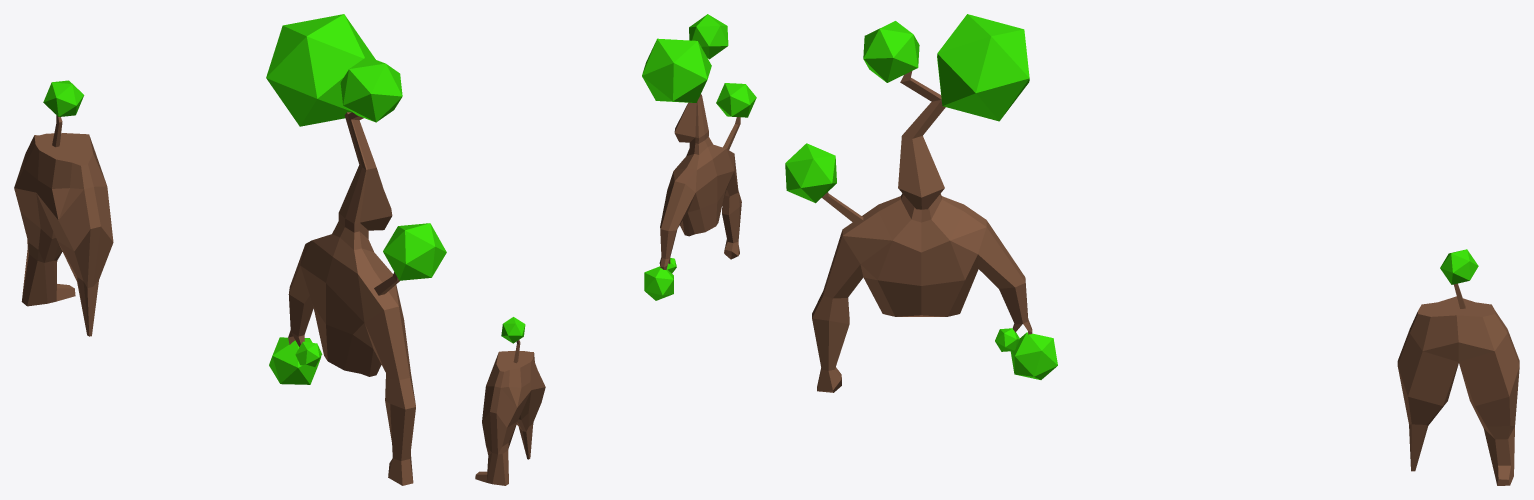
Rendered from grootshalf.fbx.
The picture shows the model from 3 angles, left to right: view 1: azimuth 30°, elevation 25°; view 2: azimuth 150°, elevation 25°; view 3: azimuth 270°, elevation 25°; orthographic projection. The views are drawn at different scales.
Visible parts, largest first — view 1: groot top half, groot bottom half; view 2: groot top half, groot bottom half; view 3: groot top half, groot bottom half.
Part boxes in pixels (x1,y1,x2,y2): groot top half: (266, 14, 446, 485); groot bottom half: (14, 80, 113, 336); groot top half: (642, 14, 756, 300); groot bottom half: (475, 317, 545, 485); groot top half: (785, 14, 1057, 392); groot bottom half: (1397, 249, 1519, 485).
Size of the model in its own units: 416 by 1846 by 2745.
